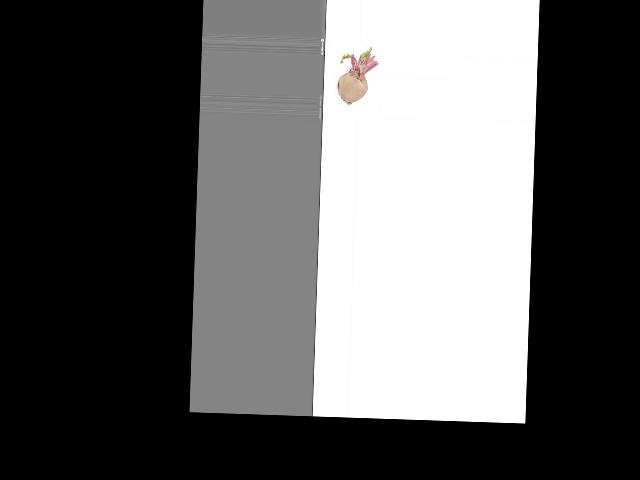beet: (336, 46, 378, 106)
